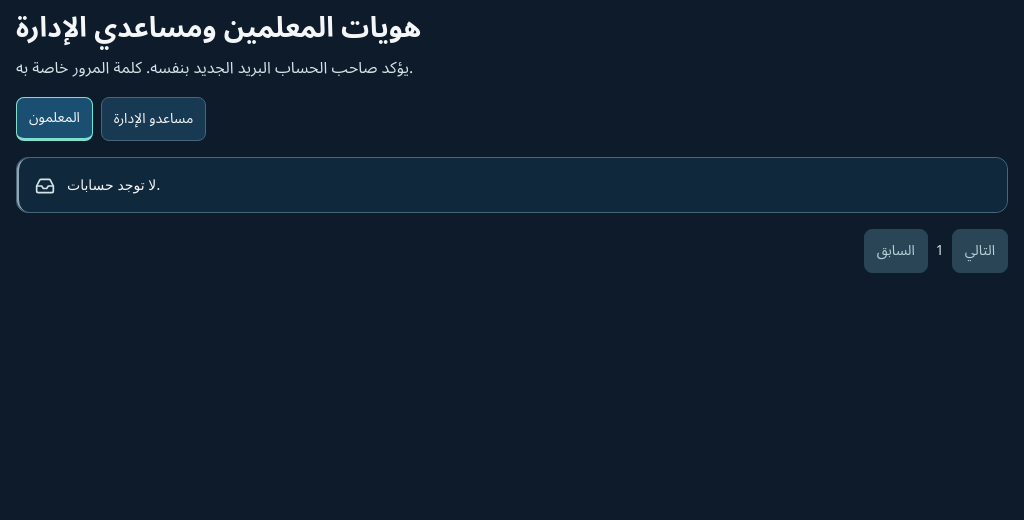
Scenario: email confirmation and account administration › confirms ar support authority revocation separately from freezing
Click the button "مساعدو الإدارة". click: (154, 119)
box: [101,97,206,141]
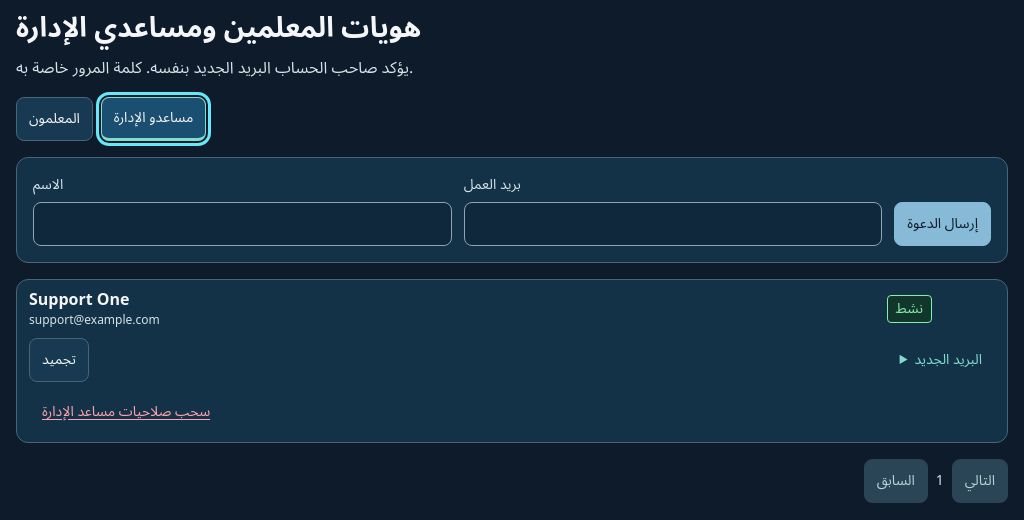
Check: the button "تجميد" is shown, box [29,338,89,382]
Click the button "سحب صلاحيات مساعد الإدارة". click: (126, 412)
box: [29,390,223,434]
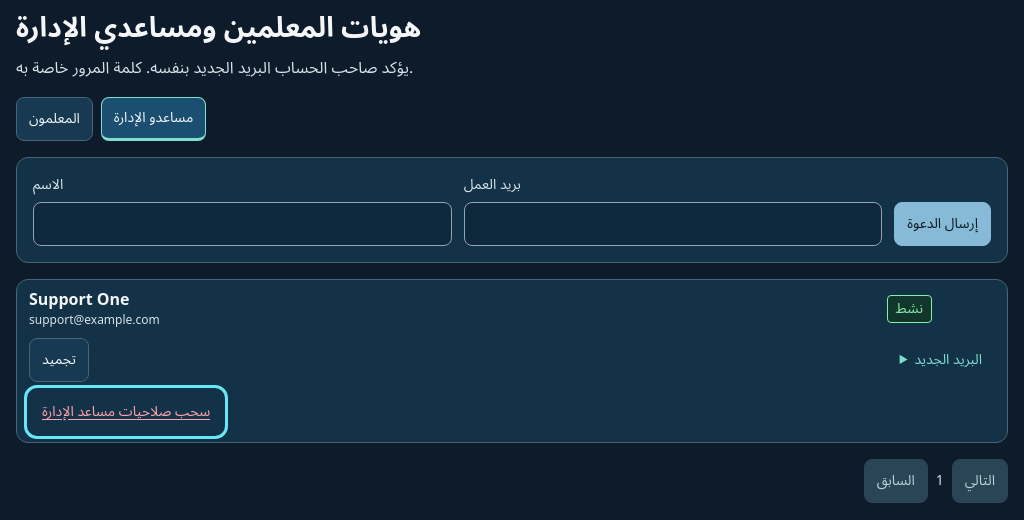
Click the button "سحب صلاحيات مساعد الإدارة". click: (126, 412)
box: [29,390,223,434]
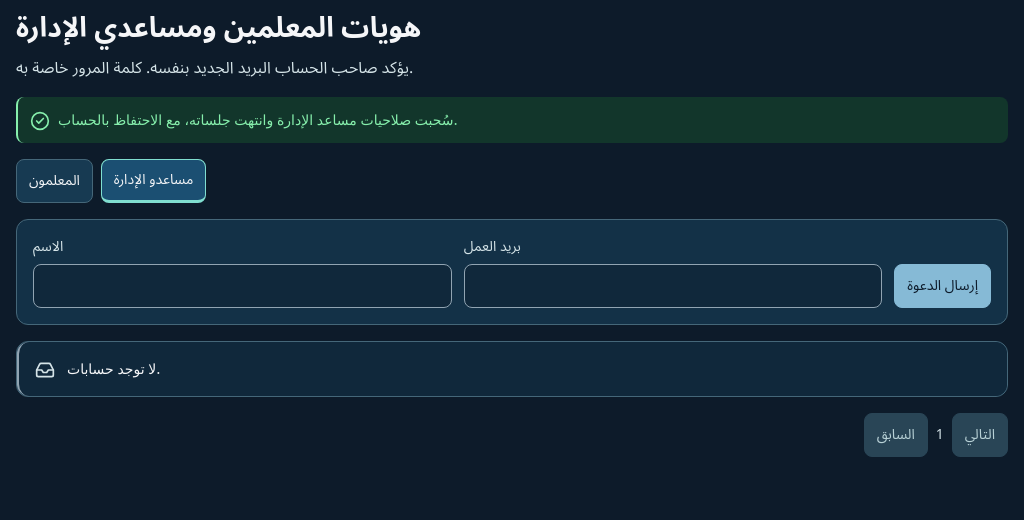
Check: the heading "Support One" is gone
Check: the message "سُحبت صلاحيات مساعد الإدارة وانتهت جلساته، مع الاحتفاظ بالحساب." is shown, box [16,97,1008,143]
